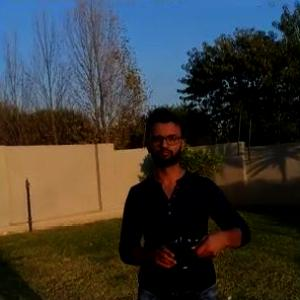follow: (113, 100, 254, 299)
